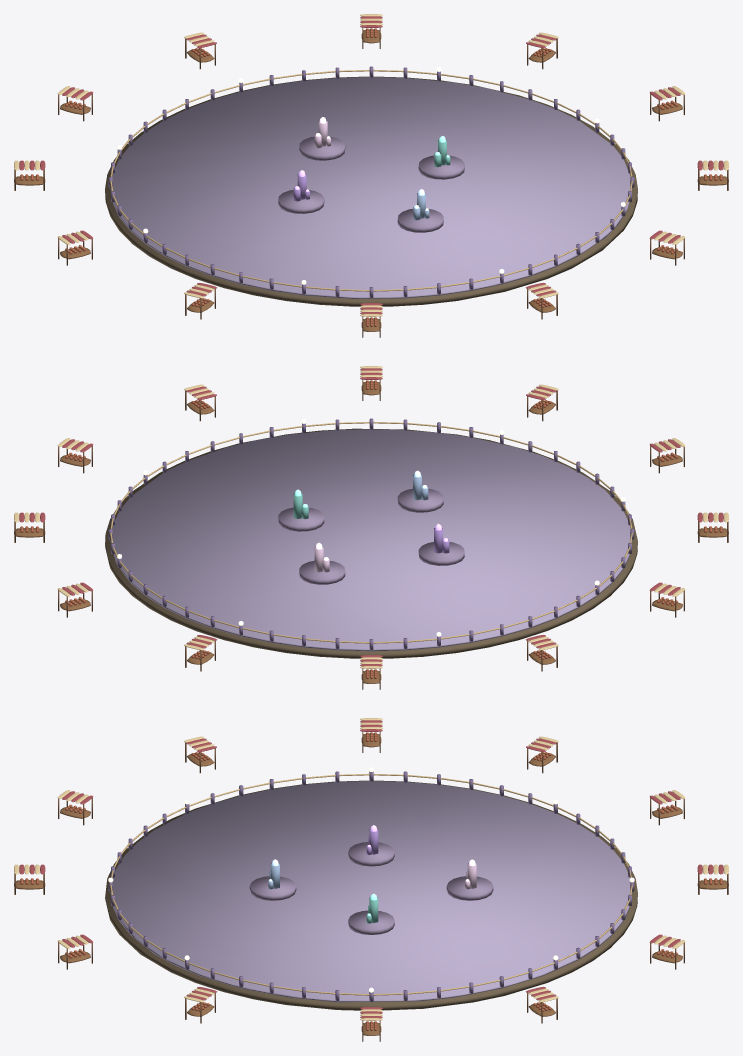
The model's file is carreras_arena_cristal.glb.
3 renders of one model, top to bottom at view 1: azimuth 30°, elevation 25°; view 2: azimuth 150°, elevation 25°; view 3: azimuth 270°, elevation 25°, orthographic.
Visible parts, largest first — view 1: suelo arena, base arena, pedestal cristal.001, pedestal cristal.003, pedestal cristal.002, pedestal cristal; view 2: suelo arena, base arena, pedestal cristal.001, pedestal cristal.002, pedestal cristal.003, pedestal cristal; view 3: suelo arena, base arena, pedestal cristal.002, pedestal cristal.003, pedestal cristal, pedestal cristal.001.
Boxes of the visible parts, <box> form: suelo arena: <box>110,77,632,298</box>; base arena: <box>105,76,637,306</box>; pedestal cristal.001: <box>418,155,464,179</box>; pedestal cristal.003: <box>397,208,443,232</box>; pedestal cristal.002: <box>299,136,345,160</box>; pedestal cristal: <box>278,190,324,213</box>; suelo arena: <box>110,429,632,651</box>; base arena: <box>105,428,637,658</box>; pedestal cristal.001: <box>278,507,324,531</box>; pedestal cristal.002: <box>299,560,345,584</box>; pedestal cristal.003: <box>397,488,443,512</box>; pedestal cristal: <box>418,542,464,565</box>; suelo arena: <box>110,781,632,1002</box>; base arena: <box>105,780,637,1010</box>; pedestal cristal.002: <box>446,876,493,900</box>; pedestal cristal.003: <box>249,876,296,900</box>; pedestal cristal: <box>348,842,394,866</box>; pedestal cristal.001: <box>348,910,394,934</box>.
Bounding box in the file's own units: 123 × 7.65 × 123.
